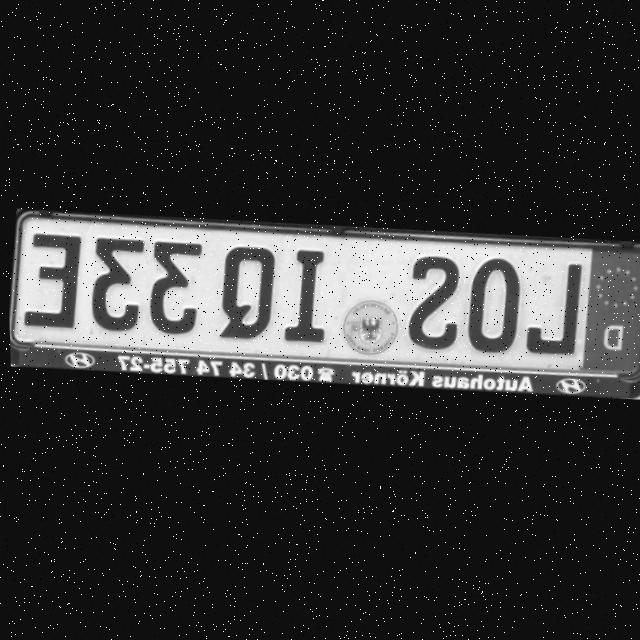license-plates: (9, 213, 640, 379)
